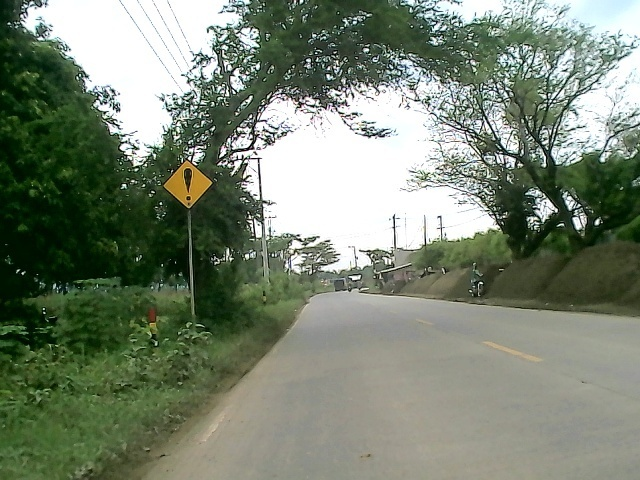Hati-hati: (161, 159, 214, 212)
